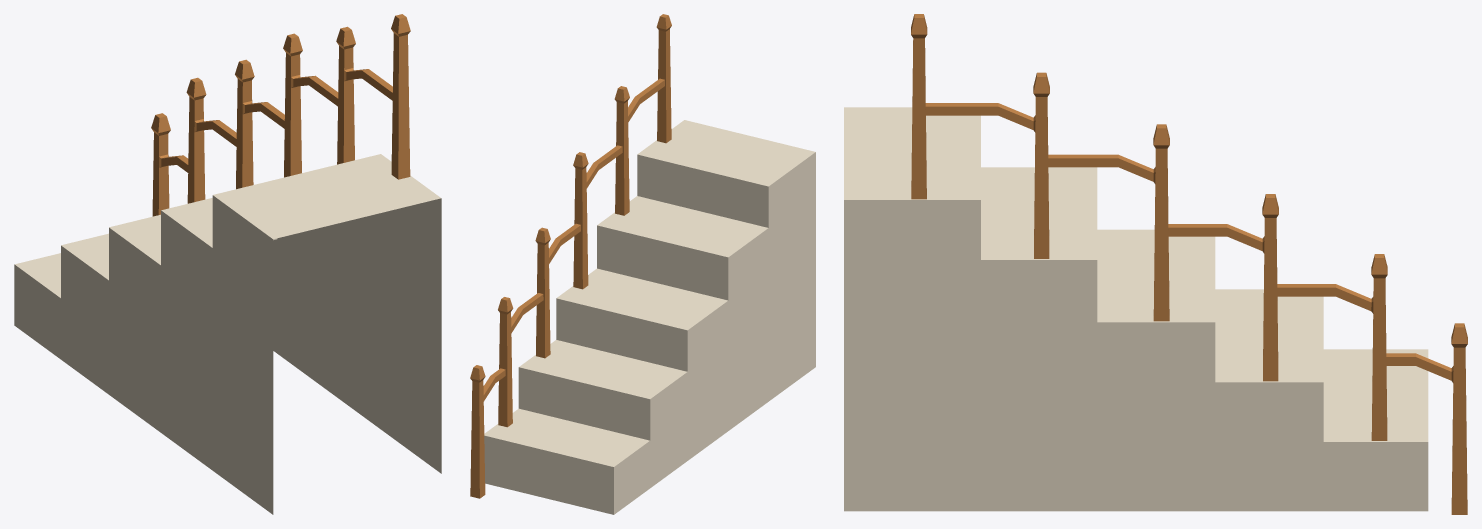
The model's file is Staircase.fbx.
The picture shows the model from 3 angles, left to right: view 1: azimuth 30°, elevation 25°; view 2: azimuth 150°, elevation 25°; view 3: azimuth 270°, elevation 25°; orthographic projection. The views are drawn at different scales.
Visible parts, largest first — view 1: Staircase, StaircaseBannister; view 2: Staircase, StaircaseBannister; view 3: Staircase, StaircaseBannister.
Boxes of the visible parts, x1,y1,x2,y2 form: Staircase: (14,154,441,514); StaircaseBannister: (151,14,410,216); Staircase: (484,120,815,514); StaircaseBannister: (470,14,671,498); Staircase: (844,107,1428,511); StaircaseBannister: (911,14,1467,514).
Size of the model in its own units: 224 by 559 by 638.
1 material, 1 textured.
